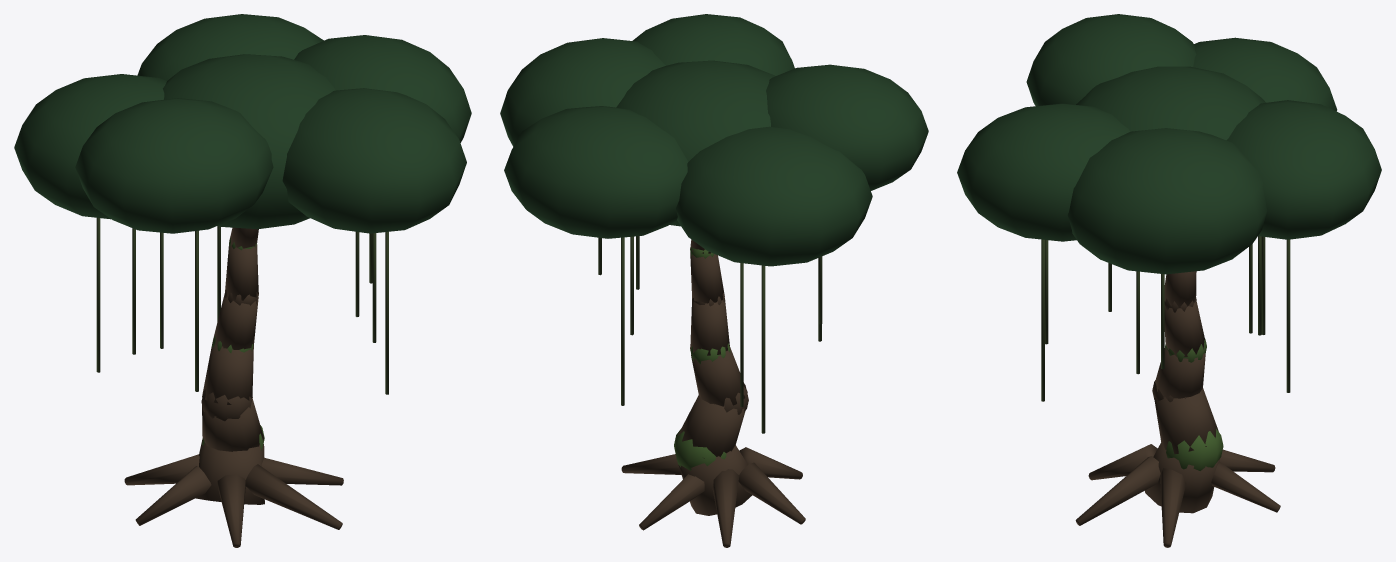
The model's file is prop_pohon_larangan_b.glb.
3 renders of one model, left to right at view 1: azimuth 30°, elevation 25°; view 2: azimuth 150°, elevation 25°; view 3: azimuth 270°, elevation 25°, orthographic. The views are drawn at different scales.
Visible parts, largest first — view 1: pohon_larangan_b; view 2: pohon_larangan_b; view 3: pohon_larangan_b.
Boxes of the visible parts, x1=… form: pohon_larangan_b: x1=14, y1=14, x2=471, y2=547; pohon_larangan_b: x1=500, y1=14, x2=928, y2=547; pohon_larangan_b: x1=957, y1=14, x2=1381, y2=547.
Size of the model in its own units: 9.03 by 9.74 by 8.65.
